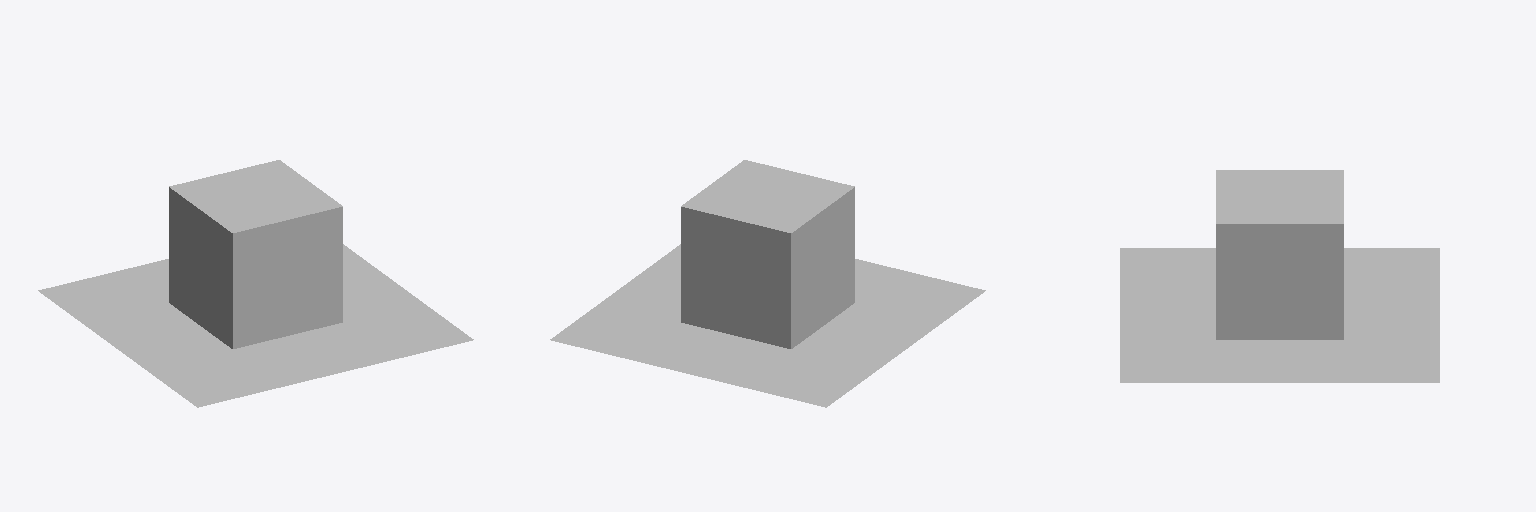
The model's file is cube-on-plane-heavy2.obj.
3 views of the same model, side by side, from view 1: azimuth 30°, elevation 25°; view 2: azimuth 150°, elevation 25°; view 3: azimuth 270°, elevation 25° (orthographic).
Parts seen in each view (by area): view 1: pPlane1, pCube1; view 2: pPlane1, pCube1; view 3: pPlane1, pCube1.
Part boxes in pixels (x1,y1,x2,y2): pPlane1: (38,244,473,407); pCube1: (169,160,342,348); pPlane1: (550,244,985,407); pCube1: (681,160,854,348); pPlane1: (1120,248,1439,382); pCube1: (1216,170,1343,339).
Bounding box in the file's own units: 5 × 2.05 × 5.